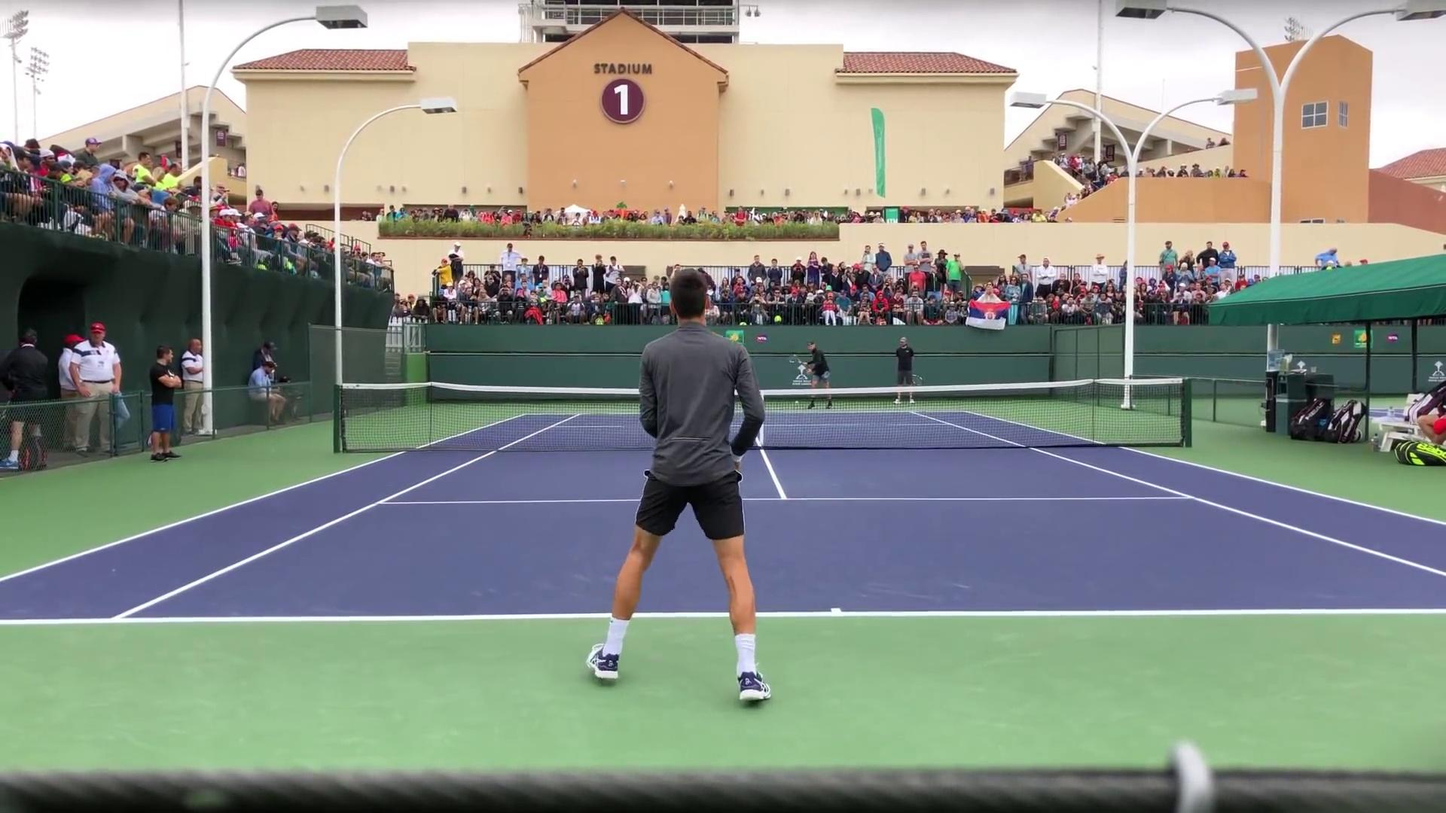ball: (794, 400, 802, 406)
